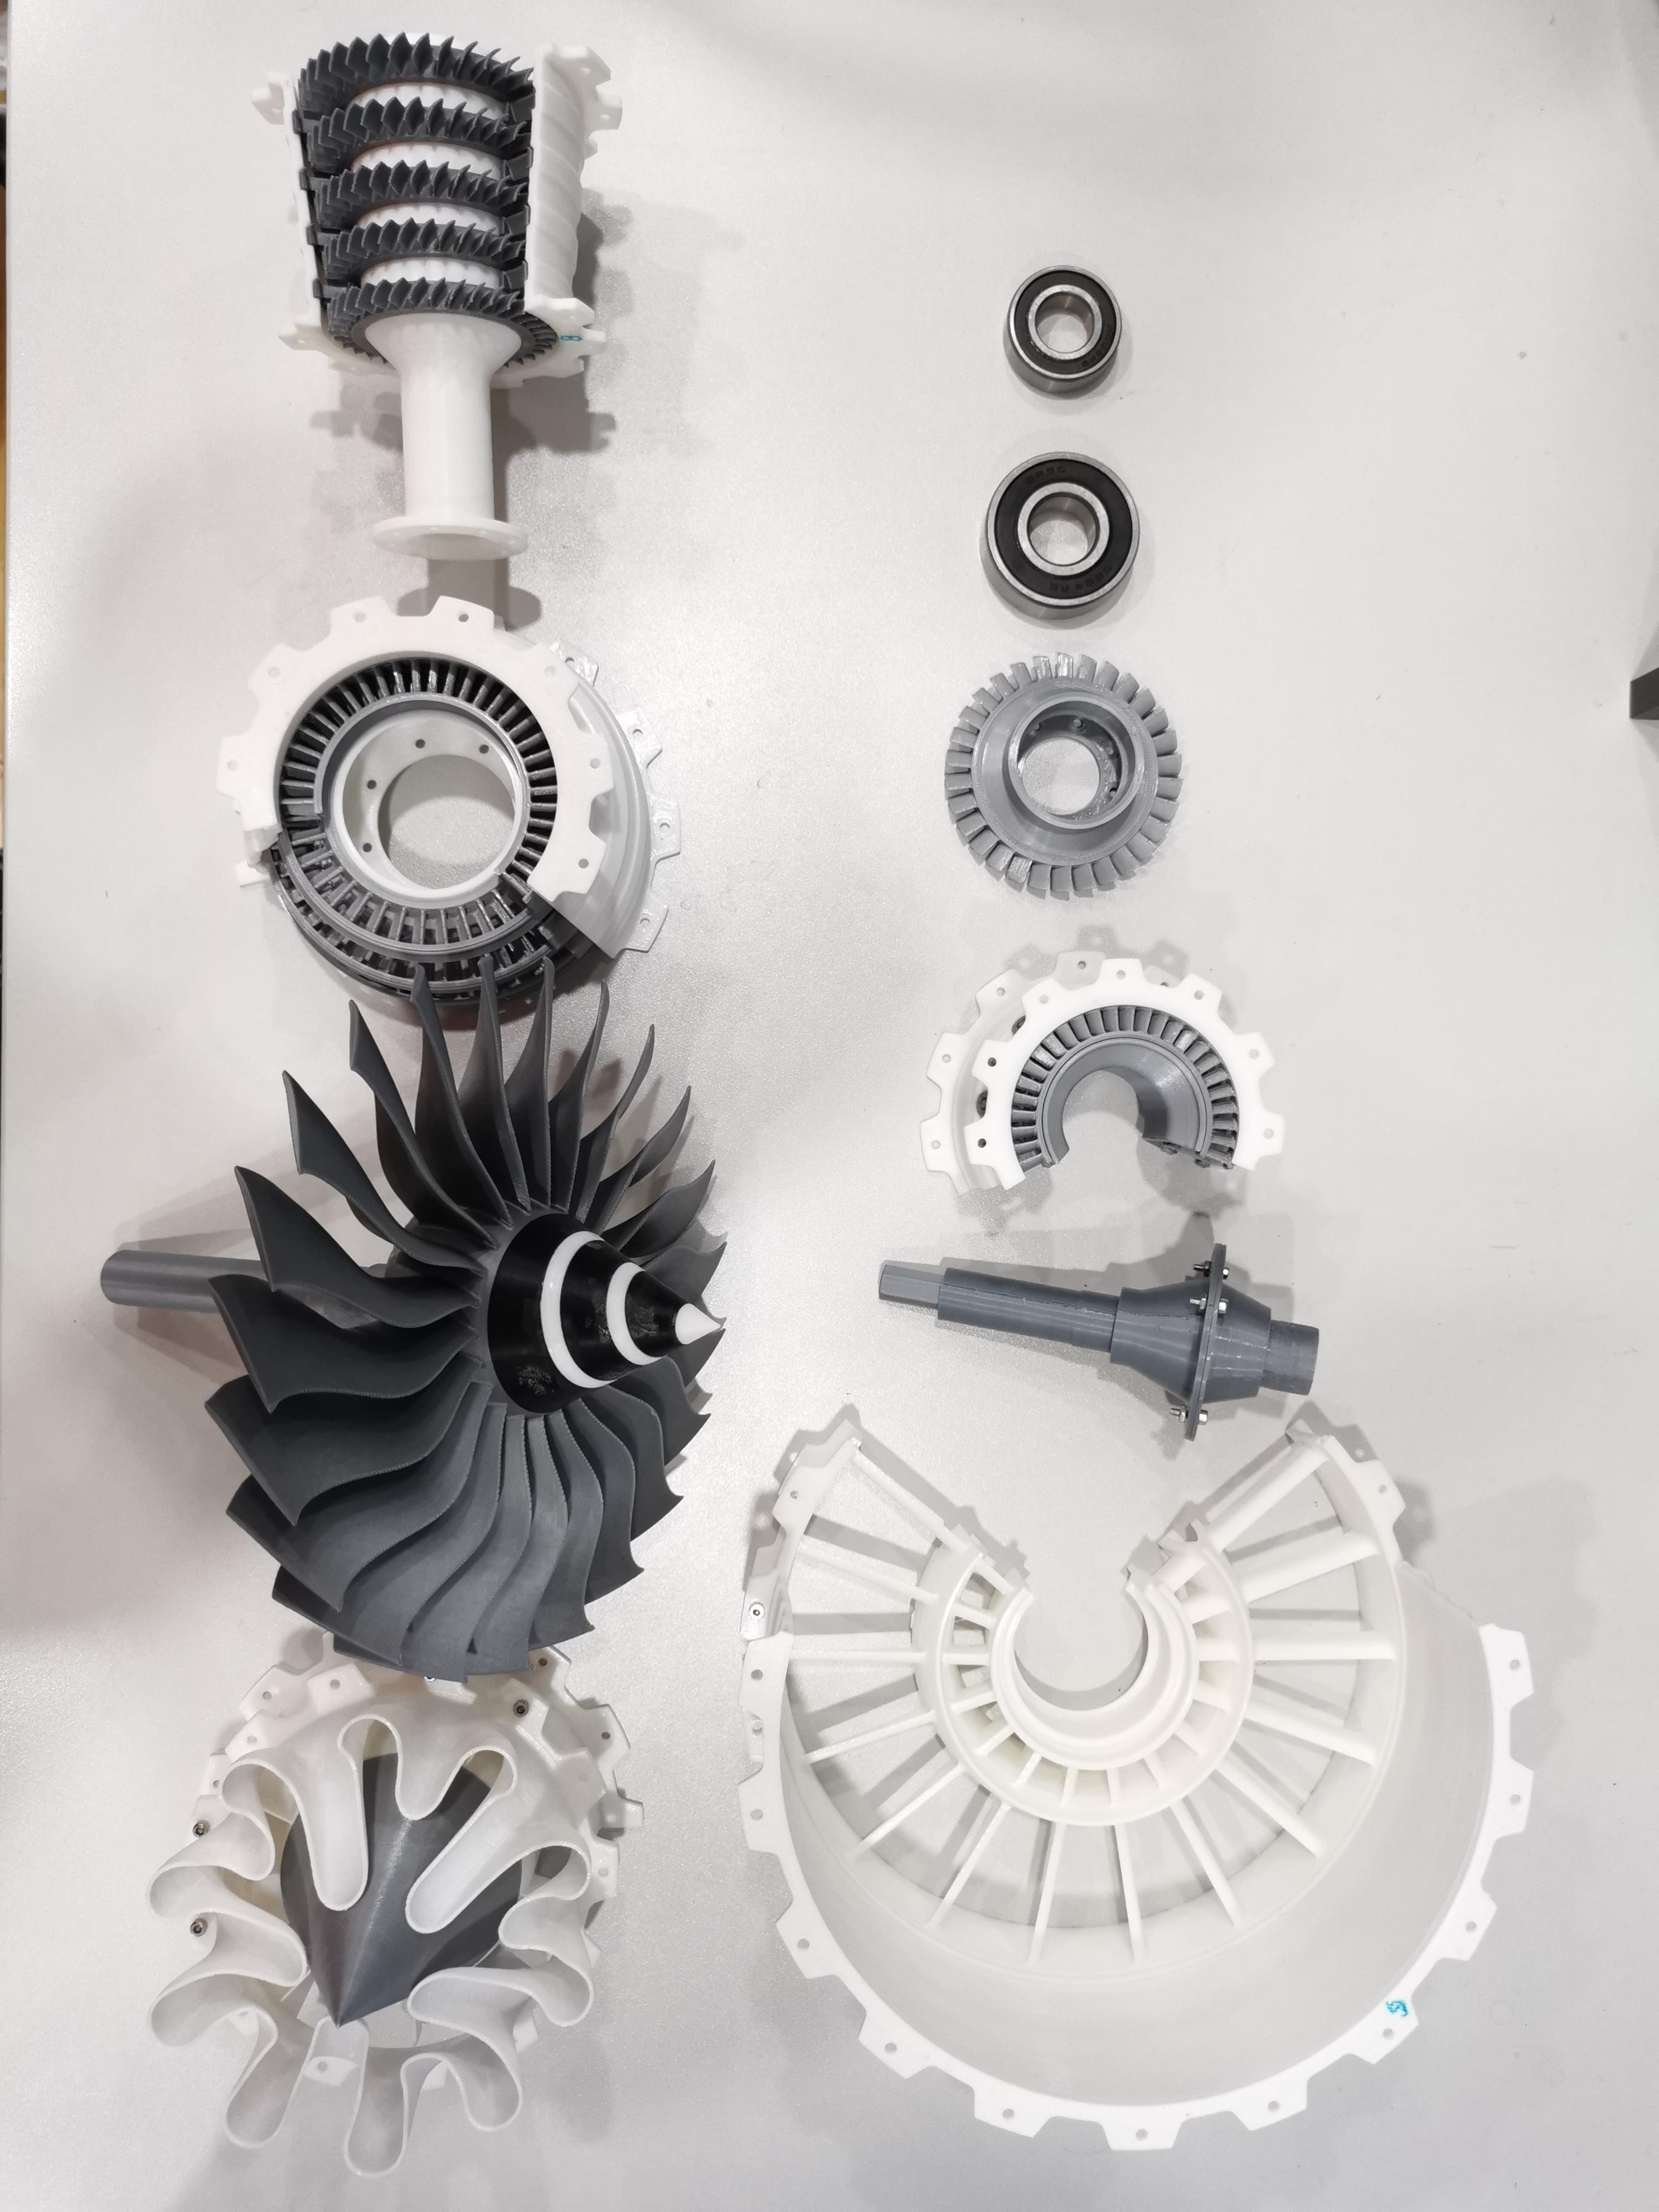Bearing-6003: (983, 237, 1150, 418)
Bearing-6204: (969, 441, 1168, 625)
Combustion Section: (915, 932, 1317, 1212)
Fan Casing and Support: (727, 1407, 1549, 2161)
Fan and Low Pressure Shaft: (98, 941, 739, 1679)
HPT Section: (932, 644, 1206, 904)
High Pressure Spool: (230, 24, 652, 587)
LPT Section: (200, 585, 697, 1015)
Low Pressure Spool: (868, 1219, 1363, 1447)
Nozzle Section: (138, 1623, 660, 2193)
